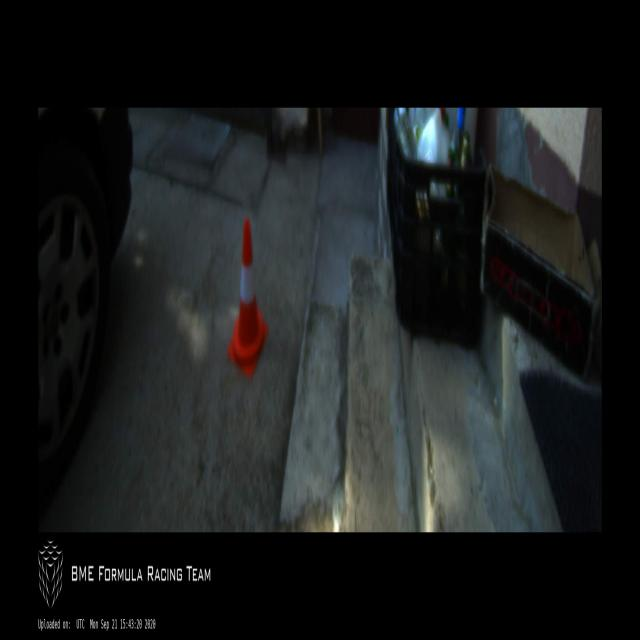orange_cone: (227, 218, 269, 381)
